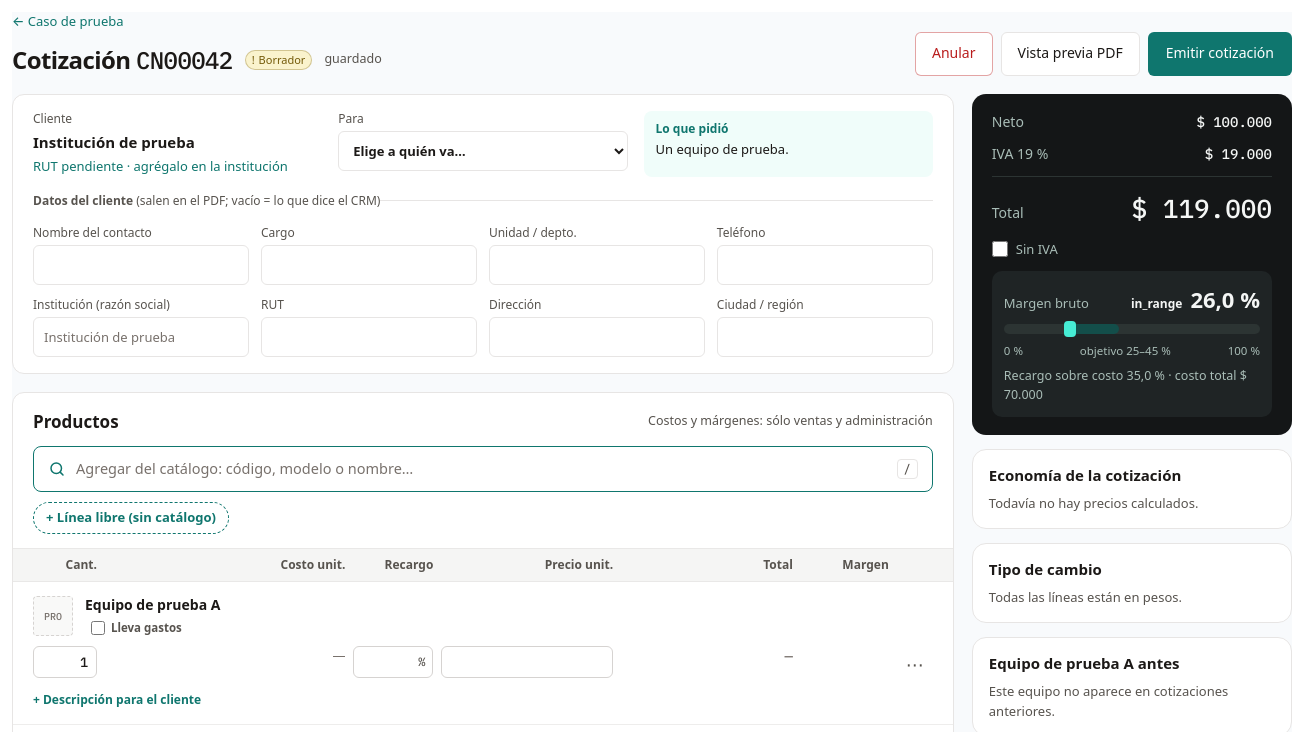
Test case: Cotizador page — the draft editor › stops on someone else's save and reloads on «Ver cambios»
This screenshot has width=1304, height=732.
Step 1. Replace the text in the field named "Cantidad de la línea 1" with "2" → (65, 662), box left=33, top=646, right=97, bottom=678
Wait 1250 ms
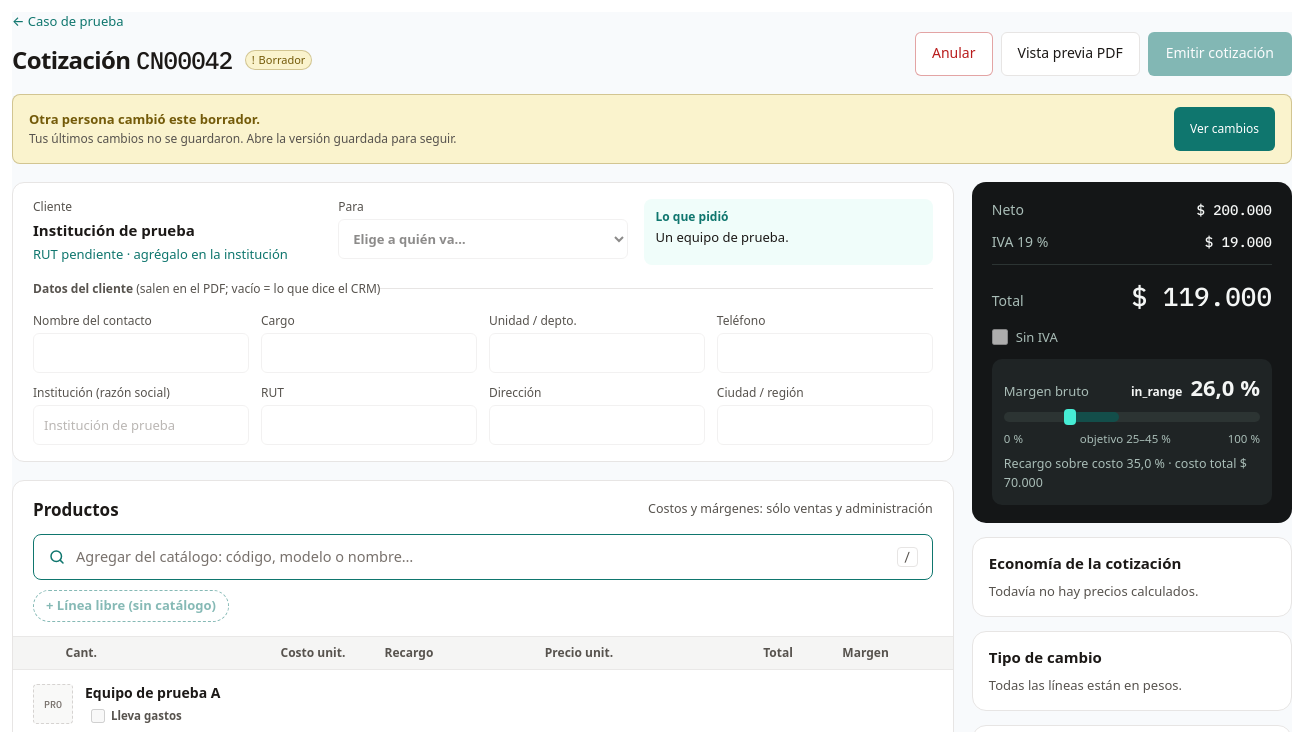
Expected: the text "Otra persona cambió este borrador." is shown, left=29, top=110, right=260, bottom=128
Step 2. Click the button "Ver cambios" → (1224, 128), box left=1174, top=106, right=1275, bottom=150
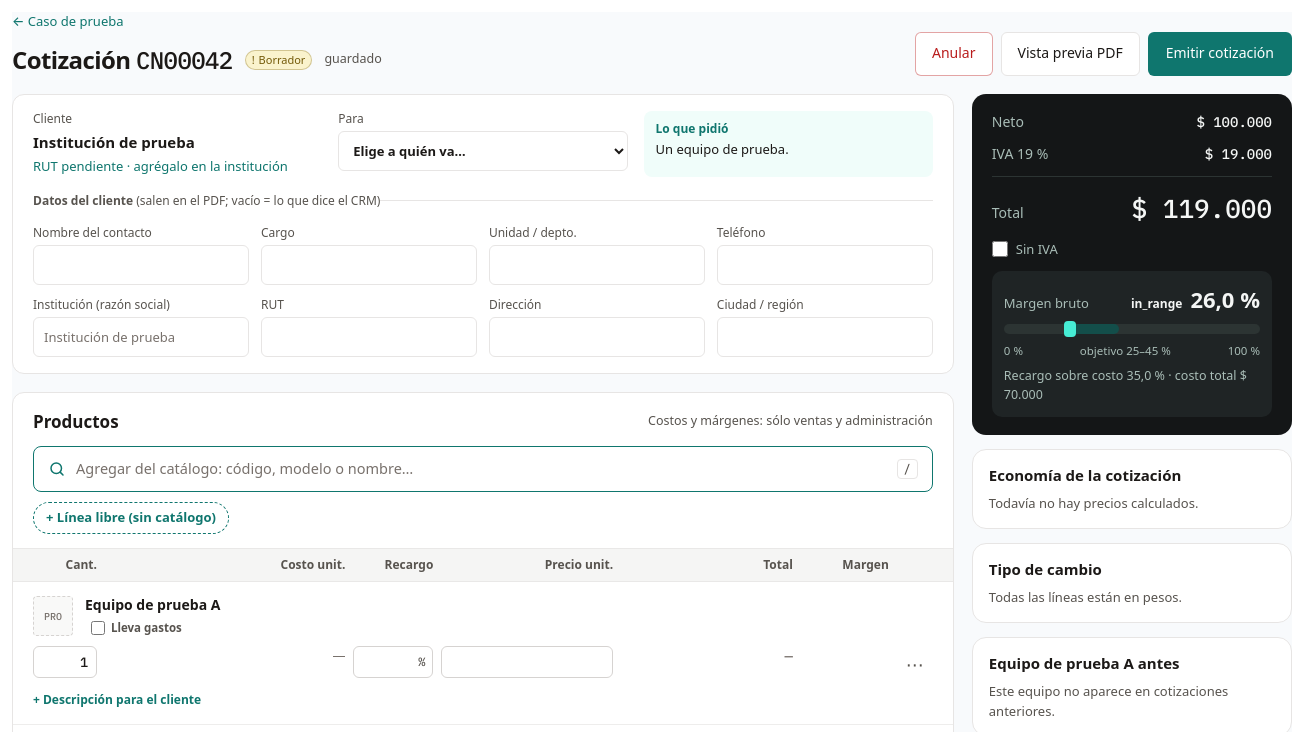
Expected: the text "Otra persona cambió este borrador." is gone
Expected: the field named "Cantidad de la línea 1" is enabled, left=33, top=646, right=97, bottom=678
